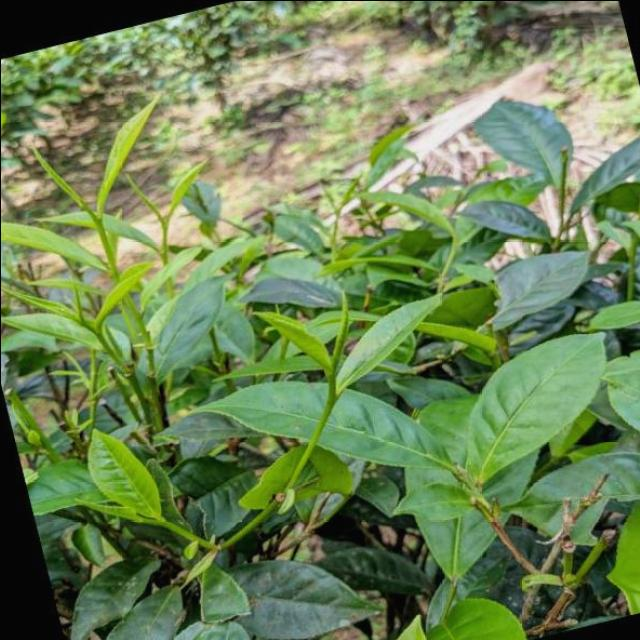Stem: (318, 397, 335, 423), (95, 221, 106, 240), (95, 331, 107, 345), (162, 518, 175, 530), (445, 250, 455, 263), (162, 224, 168, 240), (334, 214, 338, 224)
